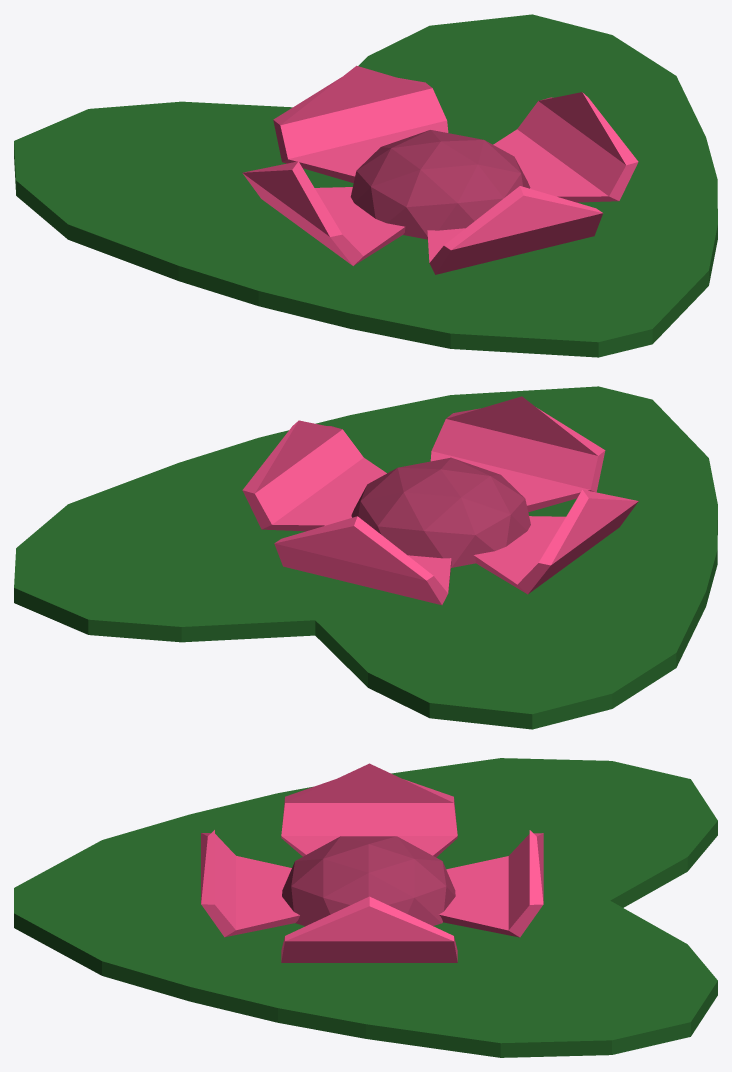
Rendered from Flower_6_Pink.fbx.
3 renders of one model, top to bottom at view 1: azimuth 30°, elevation 25°; view 2: azimuth 150°, elevation 25°; view 3: azimuth 270°, elevation 25°, orthographic. The views are drawn at different scales.
Visible parts, largest first — view 1: Flower_6_Pink_Part_1, Flower_6_Pink_Part_2, Flower_6_Pink_Part_3; view 2: Flower_6_Pink_Part_1, Flower_6_Pink_Part_2, Flower_6_Pink_Part_3; view 3: Flower_6_Pink_Part_1, Flower_6_Pink_Part_2, Flower_6_Pink_Part_3.
Part boxes in pixels (<box>): Flower_6_Pink_Part_1: <box>14,14,717,357</box>; Flower_6_Pink_Part_2: <box>242,65,638,274</box>; Flower_6_Pink_Part_3: <box>350,130,530,239</box>; Flower_6_Pink_Part_1: <box>14,386,717,729</box>; Flower_6_Pink_Part_2: <box>242,396,638,605</box>; Flower_6_Pink_Part_3: <box>351,457,530,567</box>; Flower_6_Pink_Part_1: <box>14,758,717,1057</box>; Flower_6_Pink_Part_2: <box>201,763,543,962</box>; Flower_6_Pink_Part_3: <box>282,836,455,926</box>.
Bounding box in the file's own units: 76.67 × 10.7 × 80.
